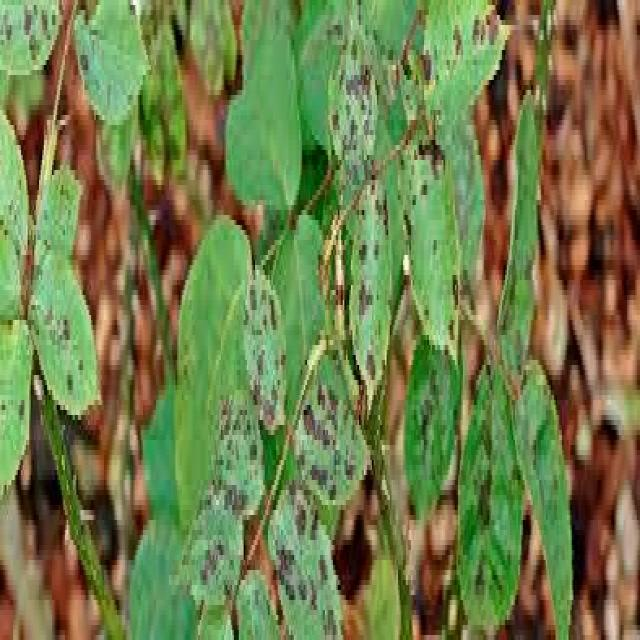black-spot: (320, 172, 400, 476)
